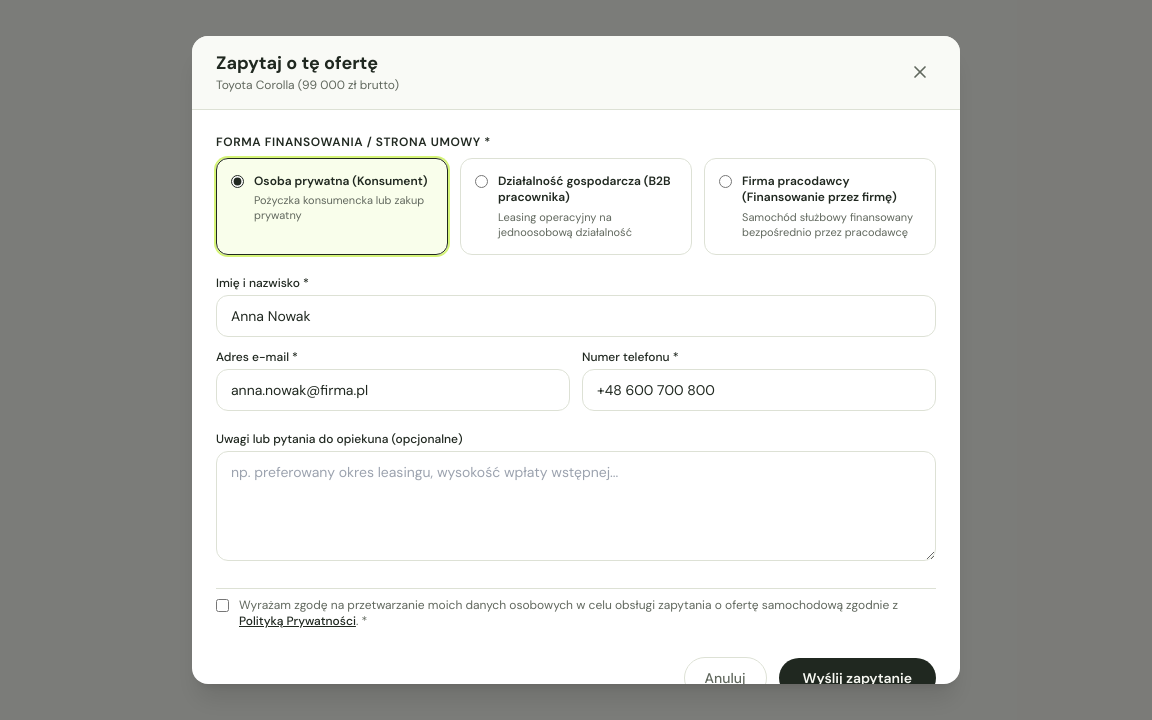
InquiryModal Component › shows error validation when RODO consent is not checked
Expected: the field showing "Anna Nowak" is shown, [216,295,936,337]
Click the button "Wyślij zapytanie" at (857, 678), box [778,658,936,698]
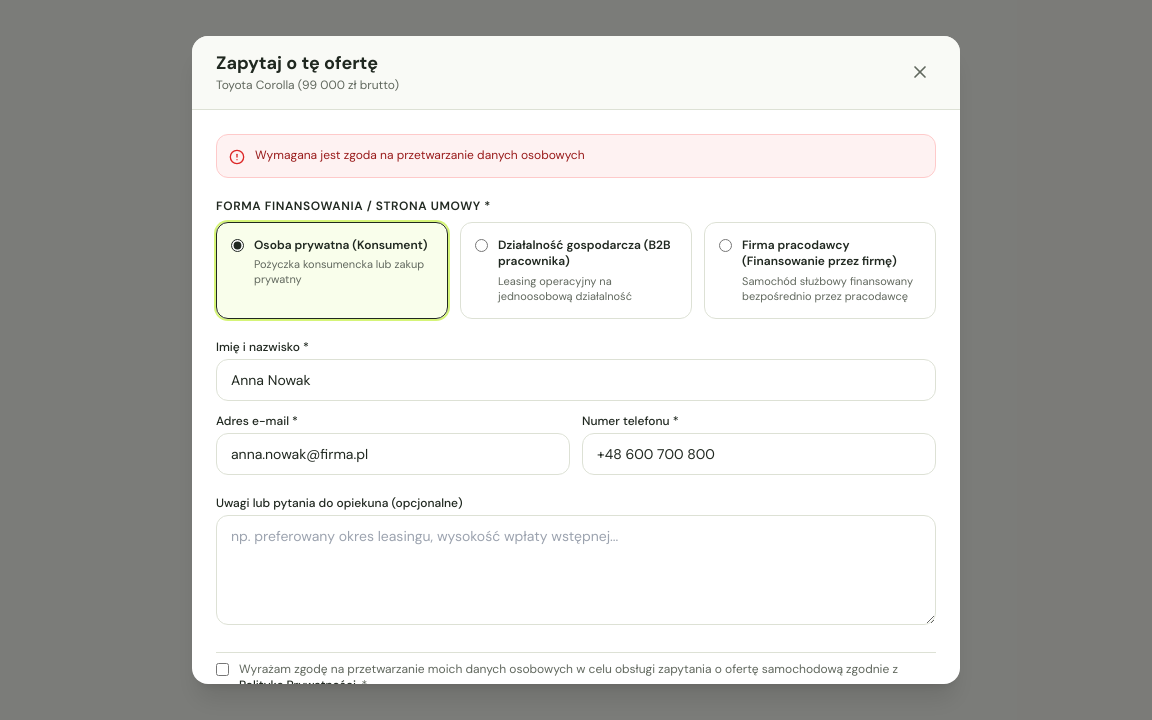
Expected: the message reads "Wymagana jest zgoda na przetwarzanie danych osobowych", [255,146,585,162]
